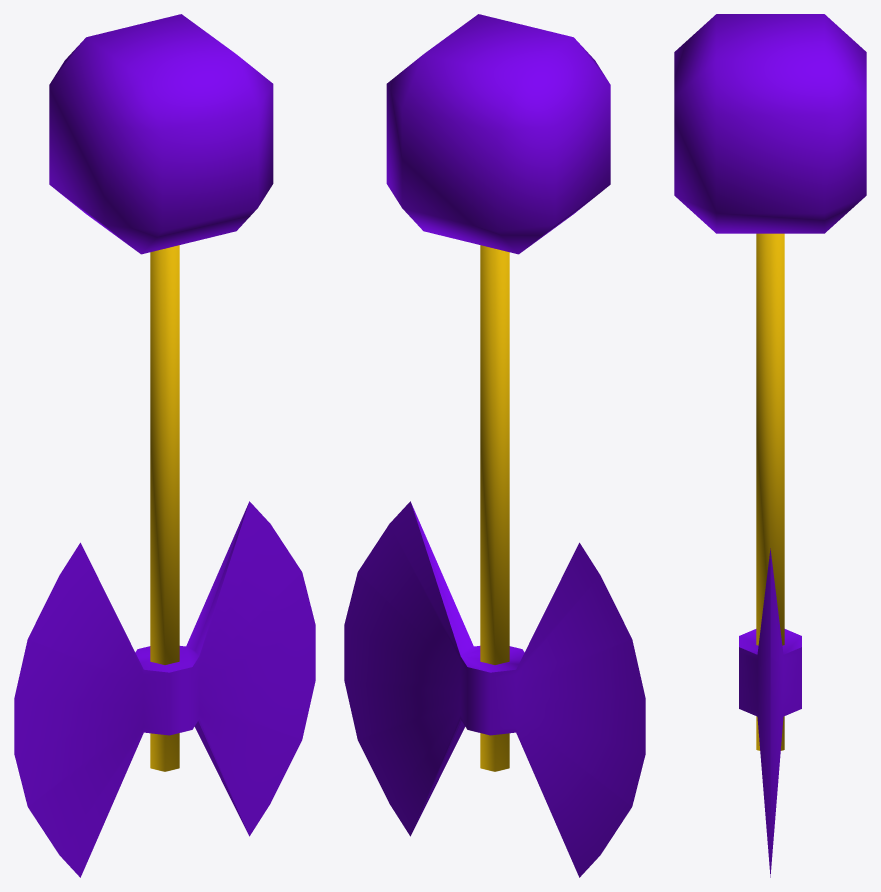
The model's file is Swinging_Axe.fbx.
The picture shows the model from 3 angles, left to right: view 1: azimuth 30°, elevation 25°; view 2: azimuth 150°, elevation 25°; view 3: azimuth 270°, elevation 25°; orthographic projection.
Parts seen in each view (by area): view 1: swinging axe; view 2: swinging axe; view 3: swinging axe.
Part boxes in pixels (x1,y1,x2,y2): swinging axe: (14,14,315,877); swinging axe: (344,14,645,877); swinging axe: (674,14,866,877).
Size of the model in its own units: 147 by 378 by 82.4.
